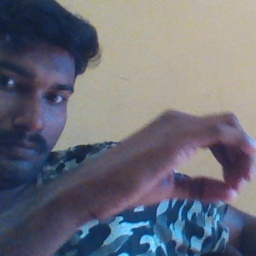O: (101, 93, 256, 217)
